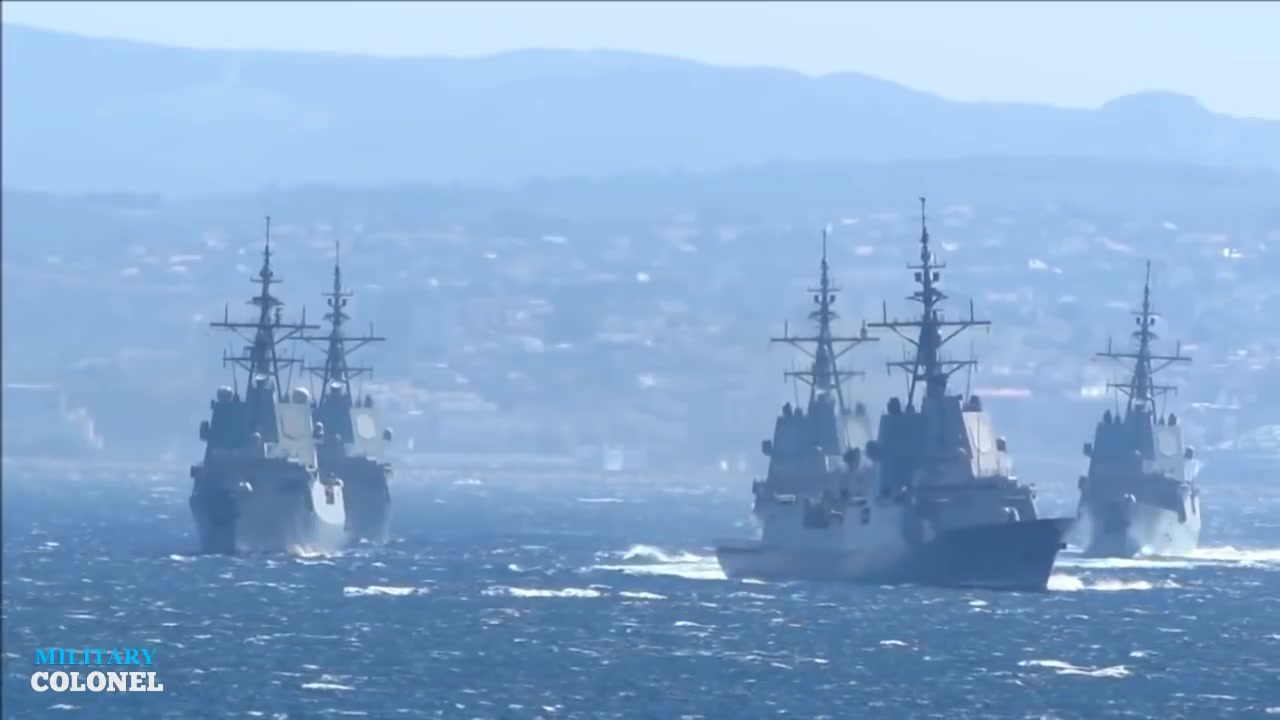WarShip: (871, 186, 1063, 597), (721, 220, 908, 585), (171, 251, 355, 559), (1070, 250, 1200, 574), (296, 246, 400, 545)
